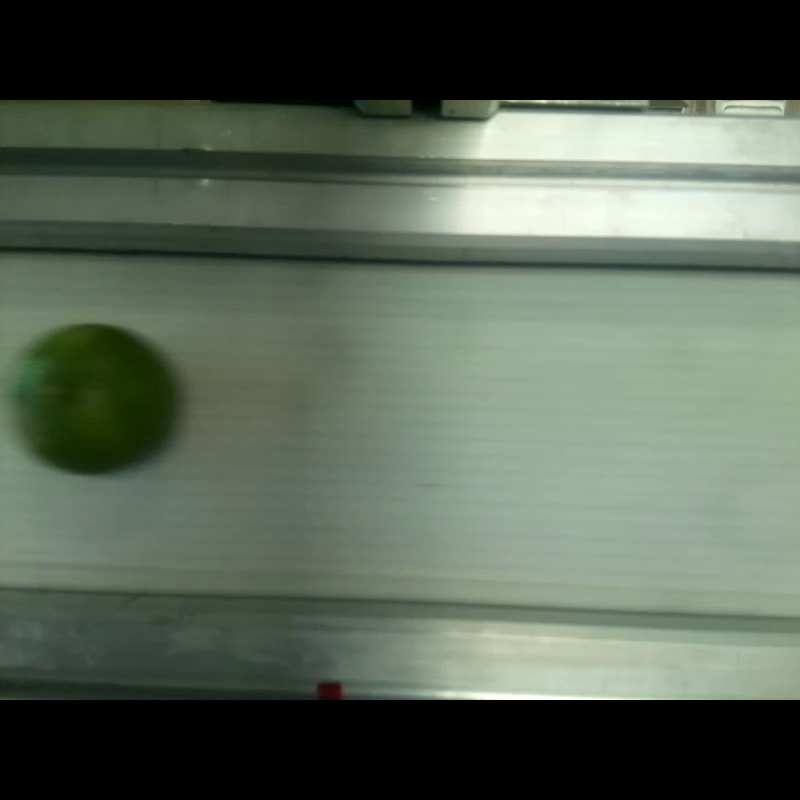lime: (20, 324, 172, 470)
